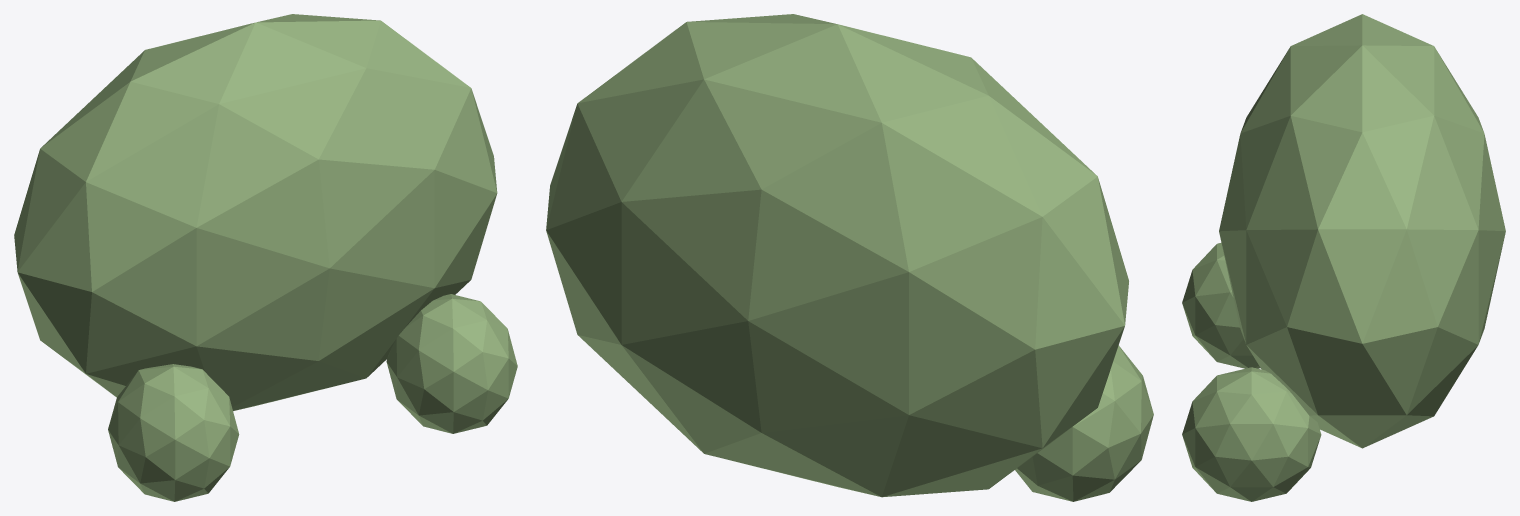
The model's file is frog.glb.
3 views of the same model, side by side, from view 1: azimuth 30°, elevation 25°; view 2: azimuth 150°, elevation 25°; view 3: azimuth 270°, elevation 25° (orthographic). The views are drawn at different scales.
Parts seen in each view (by area): view 1: world; view 2: world; view 3: world.
Part boxes in pixels (box(x1,y1,x2,y2)): world: box(14, 14, 517, 501); world: box(546, 14, 1153, 501); world: box(1182, 14, 1505, 501).
Size of the model in its own units: 1.3 by 1.04 by 0.79.
